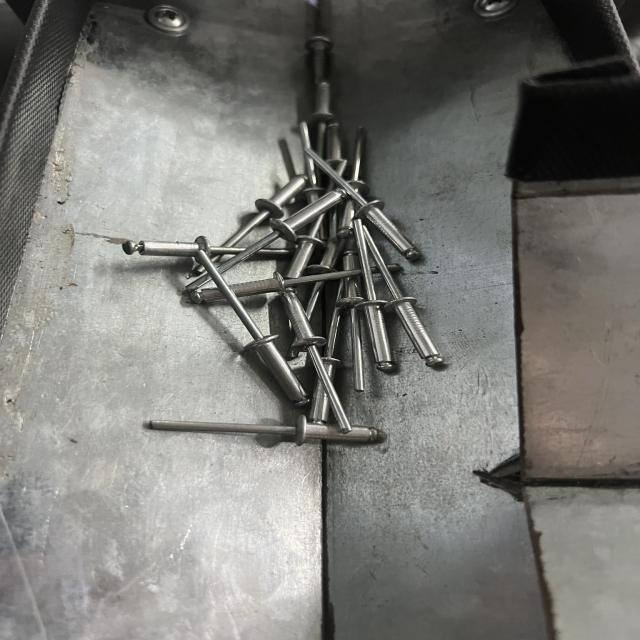rivet: (193, 249, 312, 405), (352, 217, 399, 376), (146, 415, 386, 446)
